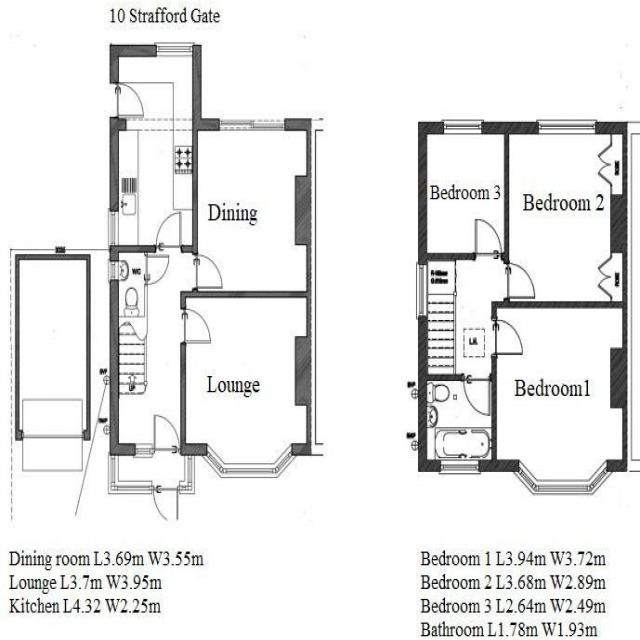DOOR: (108, 81, 146, 119), (501, 262, 537, 301), (474, 216, 503, 263), (462, 372, 491, 419), (152, 480, 180, 528), (190, 253, 225, 291), (490, 318, 525, 356), (179, 307, 213, 345), (154, 210, 183, 254), (152, 413, 180, 457), (143, 254, 171, 287)
ROOM: (491, 301, 628, 497), (180, 290, 317, 480), (503, 121, 628, 309), (191, 118, 312, 299), (106, 41, 202, 253), (417, 119, 510, 261)
WINDOW: (531, 478, 594, 496), (511, 458, 539, 498), (535, 119, 597, 137), (219, 461, 280, 479), (588, 458, 616, 497), (200, 442, 226, 480), (273, 442, 299, 479), (439, 456, 482, 476), (415, 261, 429, 321), (153, 41, 195, 59), (107, 479, 153, 495), (441, 119, 484, 136), (106, 209, 120, 248), (183, 454, 196, 496), (107, 454, 120, 496), (133, 441, 153, 460), (108, 259, 121, 283), (178, 480, 196, 495)
